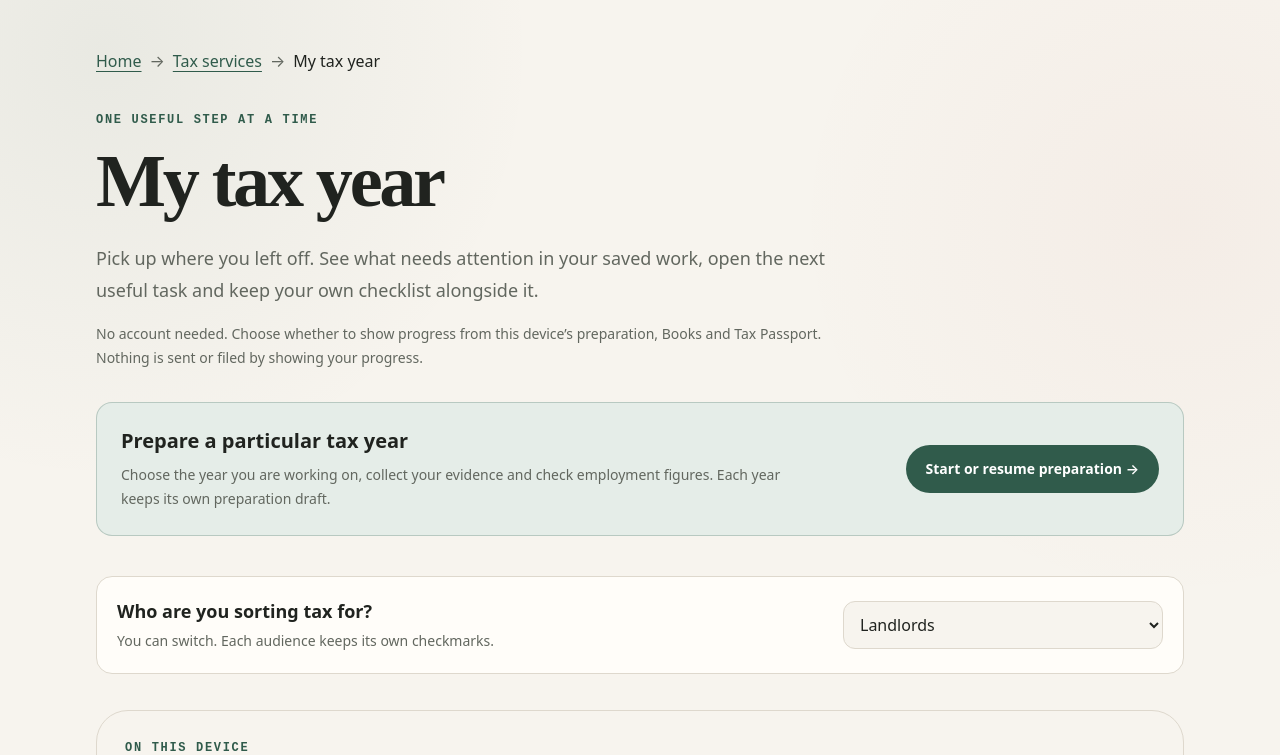
it: My tax year and personal checklist › lets an explicit audience URL take precedence over the saved selection without overwriting it
Select "Sole traders and freelancers" in the dropdown labelled "Who are you sorting tax for?": [1003, 625] box [843,601,1163,649]
(page scrolled)
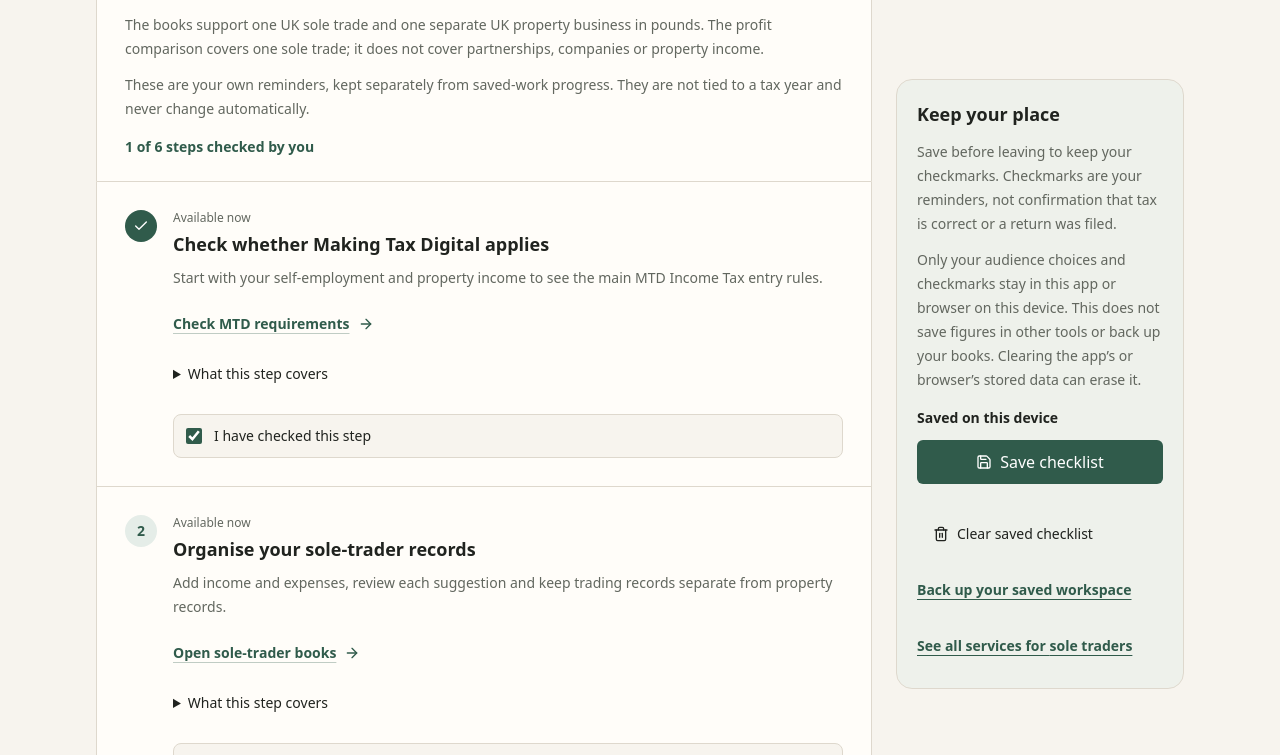
Check: the checkbox labelled "I have checked this step" below "Check MTD requirements" is checked, box [186,428,202,444]
